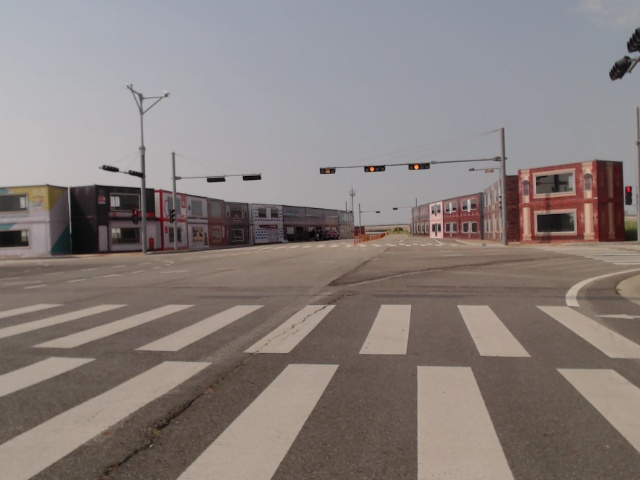orange_4: (363, 164, 387, 174), (407, 162, 431, 171)
